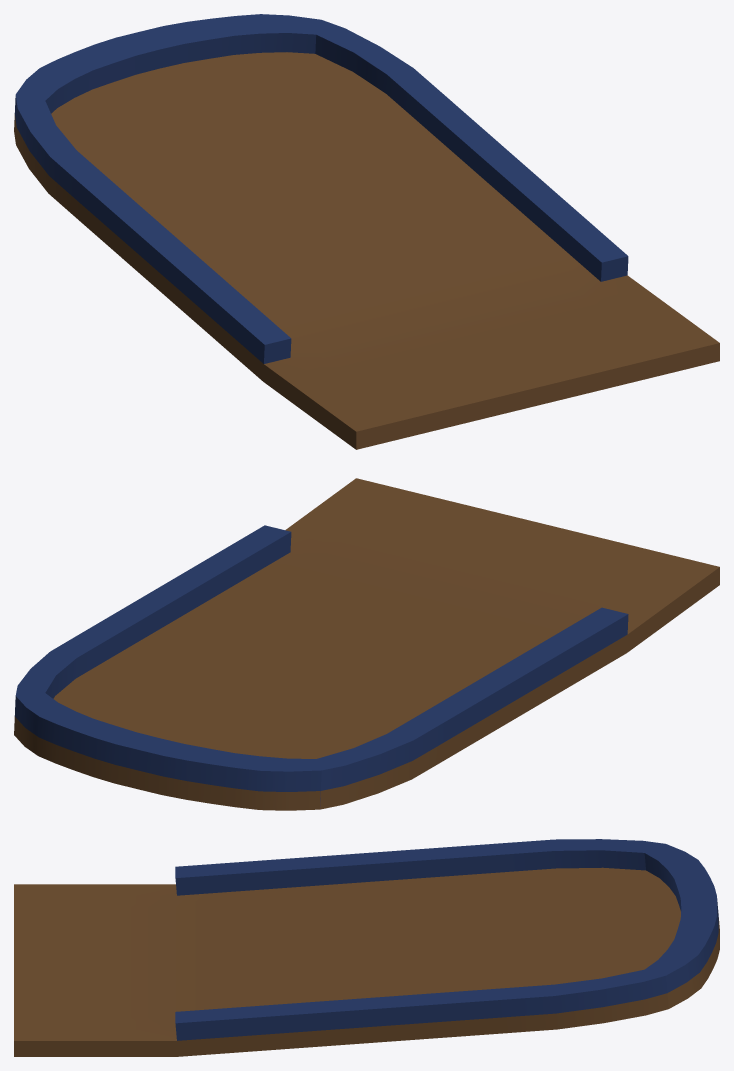
The model's file is PinballArena 1.fbx.
The picture shows the model from 3 angles, top to bottom: view 1: azimuth 30°, elevation 25°; view 2: azimuth 150°, elevation 25°; view 3: azimuth 270°, elevation 25°; orthographic projection. The views are drawn at different scales.
Visible parts, largest first — view 1: Pinball; view 2: Pinball; view 3: Pinball.
Boxes of the visible parts, x1,y1,x2,y2 form: Pinball: (14, 14, 719, 449); Pinball: (14, 478, 719, 810); Pinball: (14, 839, 719, 1056).
Bounding box in the file's own units: 4198 × 906 × 7997.
